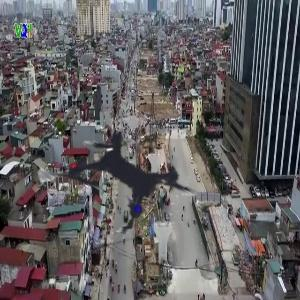drone: (4, 62, 239, 297)
